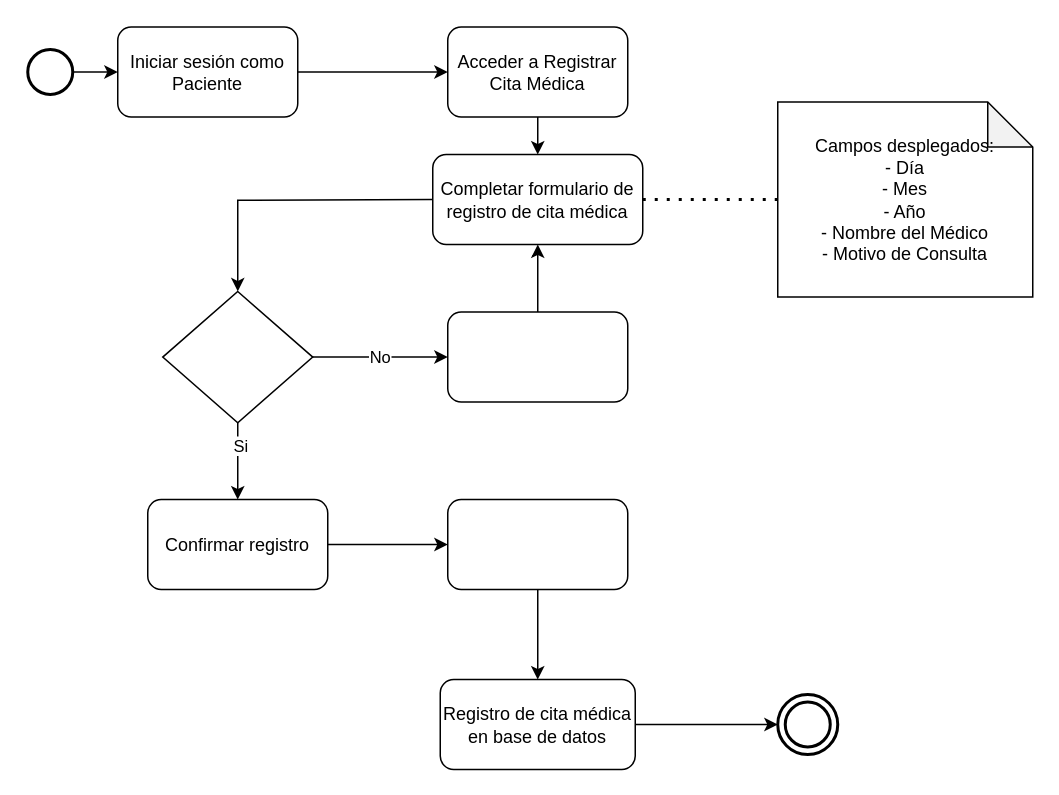
The diagram is 1059 pixels wide and 795 high, and some of its shapes have lost their labels. Each missing label, with the centre of its shape:
Mensaje de registro completado con exito: (x=537, y=544)
Notificación de "Error al completar el formulario": (x=537, y=356)
Validador de formulario: (x=237, y=356)
